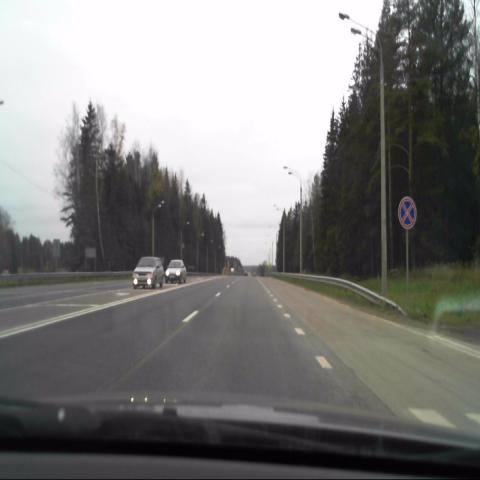3_27: (398, 196, 416, 231)
